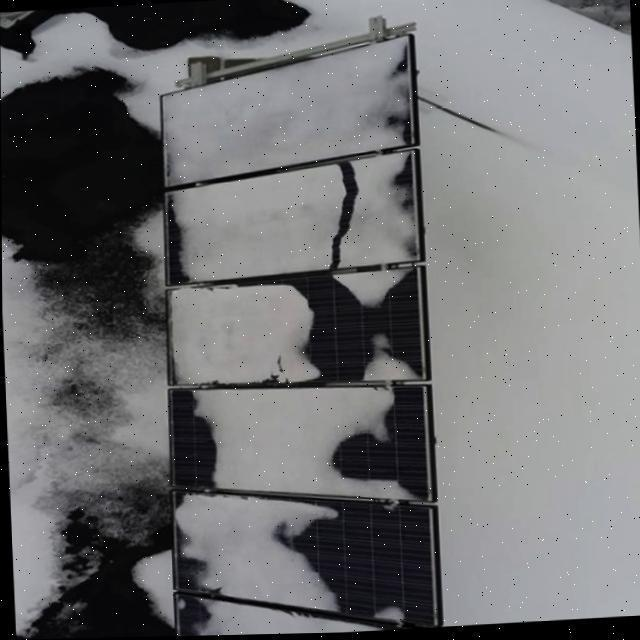Anomaly Solar Panel: (162, 36, 436, 637)
Snow: (158, 36, 414, 187), (186, 387, 417, 499), (170, 159, 347, 282), (173, 489, 339, 612), (172, 283, 322, 384), (334, 150, 419, 266), (188, 593, 387, 637), (332, 268, 414, 310), (361, 330, 424, 379), (374, 606, 404, 619)
